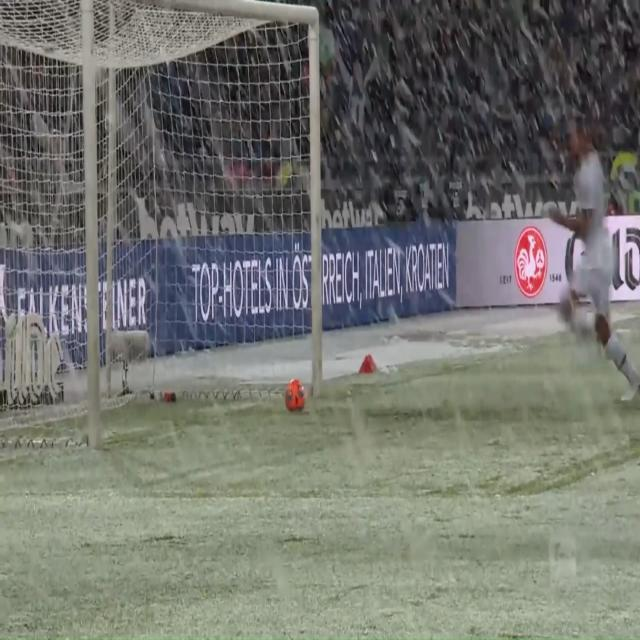ball: (282, 368, 307, 421)
player: (534, 97, 638, 406)
